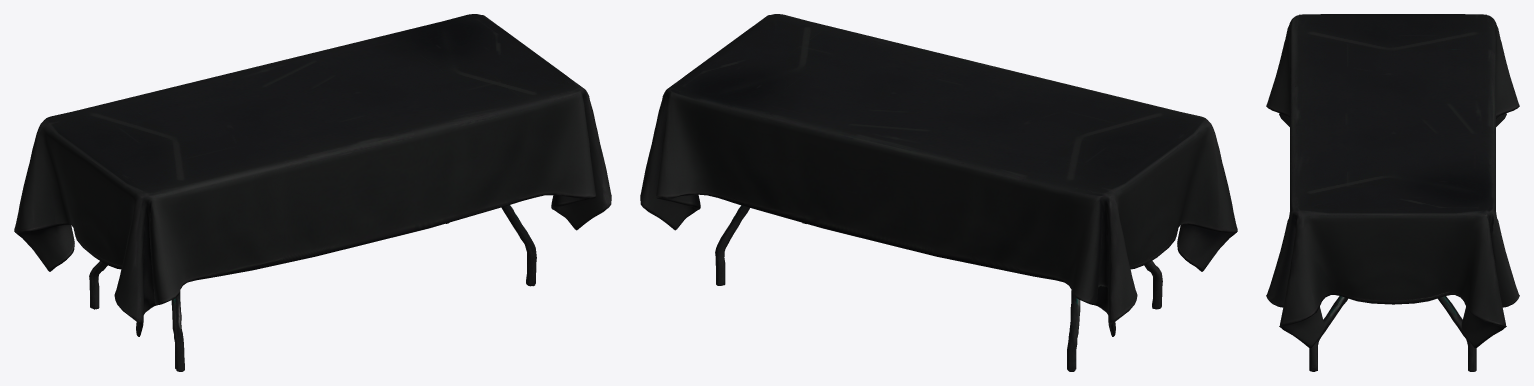
Rendered from Banq_Tbl_Half_Drop_Black_0630193740_texture.glb.
The picture shows the model from 3 angles, left to right: view 1: azimuth 30°, elevation 25°; view 2: azimuth 150°, elevation 25°; view 3: azimuth 270°, elevation 25°; orthographic projection. The views are drawn at different scales.
Parts seen in each view (by area): view 1: Mesh_0; view 2: Mesh_0; view 3: Mesh_0.
Part boxes in pixels (x1,y1,x2,y2): Mesh_0: (14,14,611,371); Mesh_0: (640,14,1237,371); Mesh_0: (1266,14,1519,371).
Size of the model in its own units: 2.03 by 0.762 by 0.9785.
1 material, 1 textured.
